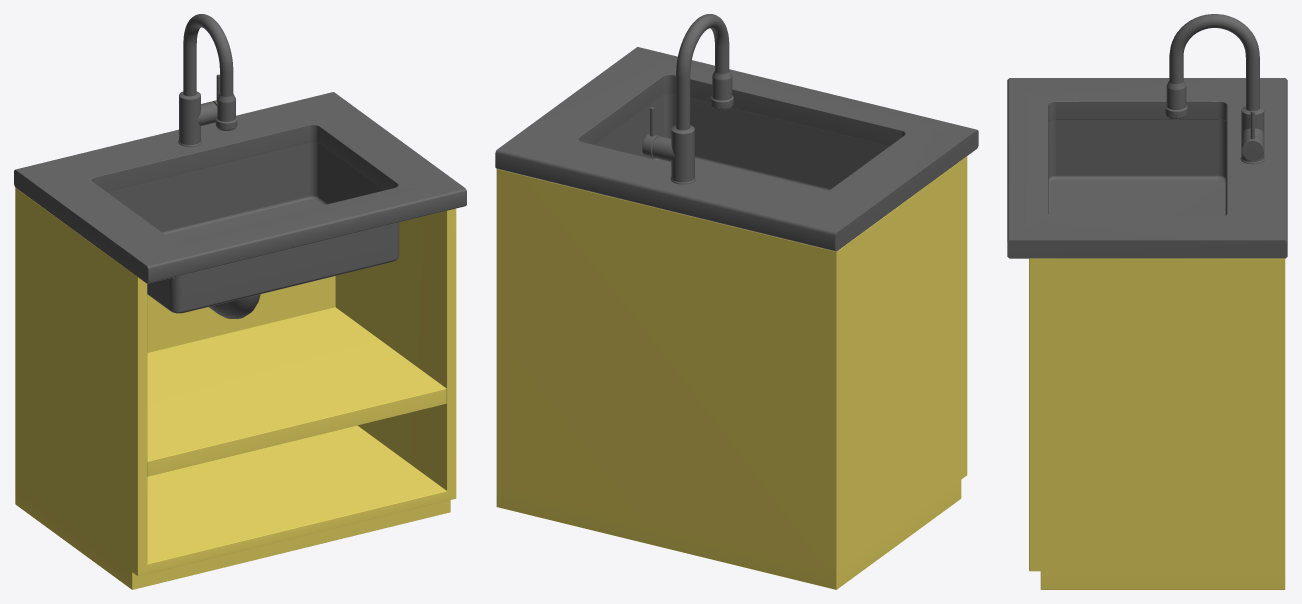
The model's file is Modelli .fbx.
The picture shows the model from 3 angles, left to right: view 1: azimuth 30°, elevation 25°; view 2: azimuth 150°, elevation 25°; view 3: azimuth 270°, elevation 25°; orthographic projection. The views are drawn at different scales.
Visible parts, largest first — view 1: Sink_01; view 2: Sink_01; view 3: Sink_01.
Part boxes in pixels (<box>): Sink_01: <box>14,14,466,589</box>; Sink_01: <box>495,14,978,589</box>; Sink_01: <box>1007,14,1287,589</box>.
Size of the model in its own units: 84.41 by 120 by 61.57.
